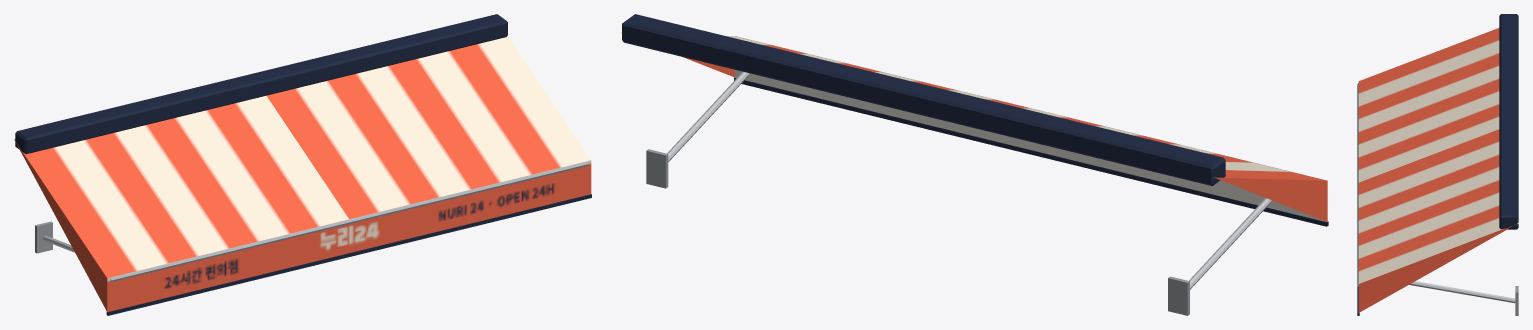
File: SC_Bld_Store_Awning_3m.gltf
3 renders of one model, left to right at view 1: azimuth 30°, elevation 25°; view 2: azimuth 150°, elevation 25°; view 3: azimuth 270°, elevation 25°, orthographic. The views are drawn at different scales.
Parts seen in each view (by area): view 1: SC_Bld_Store_Awning_3m; view 2: SC_Bld_Store_Awning_3m; view 3: SC_Bld_Store_Awning_3m.
Part boxes in pixels (x1,y1,x2,y2): SC_Bld_Store_Awning_3m: [14, 14, 591, 315]; SC_Bld_Store_Awning_3m: [621, 14, 1328, 315]; SC_Bld_Store_Awning_3m: [1357, 14, 1518, 315].
Size of the model in its own units: 3 by 0.75 by 1.01.
2 materials, 2 textured.
